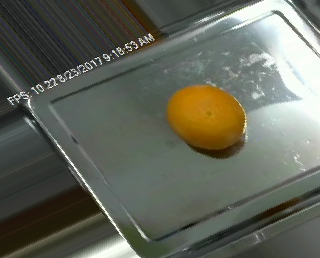Orange: (164, 84, 246, 150)
